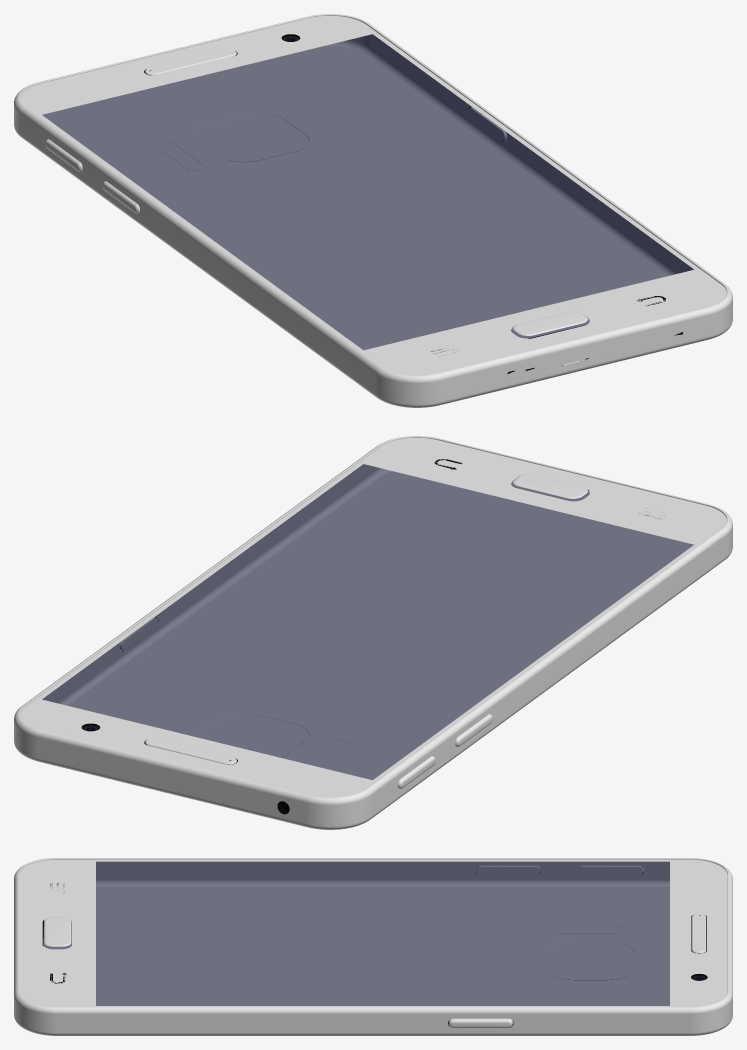
Rendered from Smartphone_X.fbx.
The picture shows the model from 3 angles, top to bottom: view 1: azimuth 30°, elevation 25°; view 2: azimuth 150°, elevation 25°; view 3: azimuth 270°, elevation 25°; orthographic projection. The views are drawn at different scales.
Parts seen in each view (by area): view 1: Smartphone_X; view 2: Smartphone_X; view 3: Smartphone_X.
Boxes of the visible parts, x1,y1,x2,y2 form: Smartphone_X: (14,14,732,407); Smartphone_X: (14,436,732,829); Smartphone_X: (14,858,732,1035).
Size of the model in its own units: 0.1352 by 0.2637 by 0.0137.
